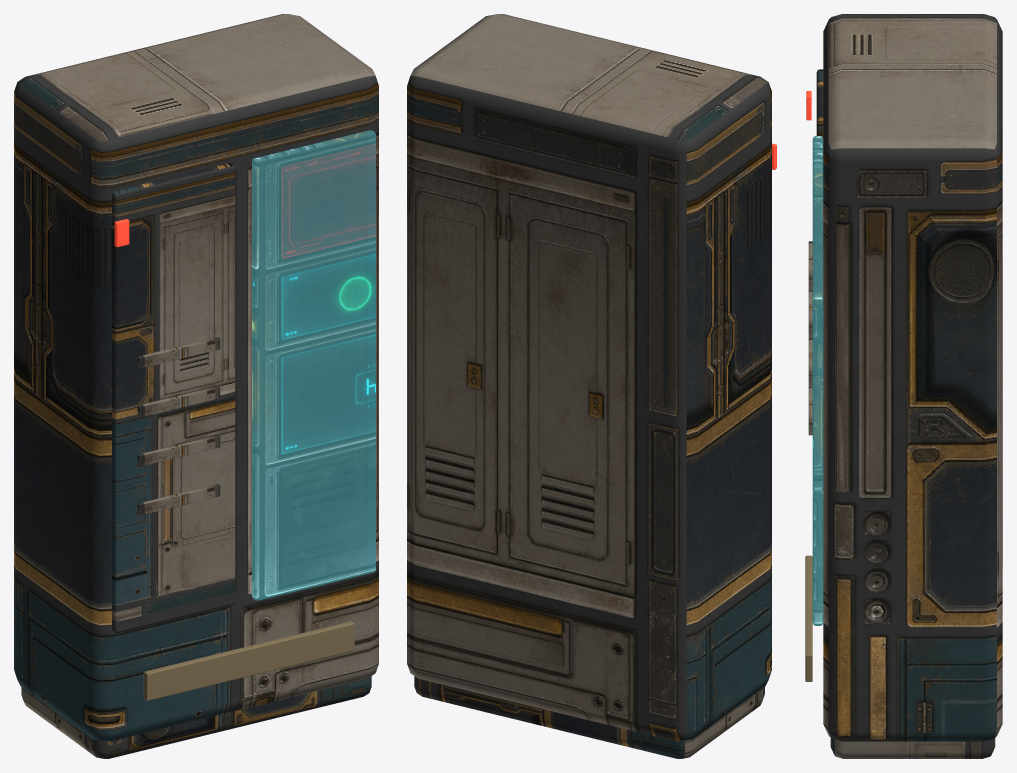
The model's file is hp_room_carekeeper_service_closet.glb.
The picture shows the model from 3 angles, left to right: view 1: azimuth 30°, elevation 25°; view 2: azimuth 150°, elevation 25°; view 3: azimuth 270°, elevation 25°; orthographic projection.
Parts seen in each view (by area): view 1: tall_service_case, right_exposed_service_bay_image2_screen, left_smoked_door, bottom_hazard_but_muted_gold_bar, heavy_shadow_plinth, closet_vent_slit_0, closet_vent_slit_1, closet_vent_slit_2, closet_vent_slit_3; view 2: tall_service_case, heavy_shadow_plinth; view 3: tall_service_case, right_exposed_service_bay_image2_screen, heavy_shadow_plinth, bottom_hazard_but_muted_gold_bar, left_smoked_door.
Part boxes in pixels (x1=…): tall_service_case: x1=14, y1=14, x2=378, y2=741; right_exposed_service_bay_image2_screen: x1=252, y1=130, x2=375, y2=600; left_smoked_door: x1=112, y1=163, x2=235, y2=632; bottom_hazard_but_muted_gold_bar: x1=143, y1=621, x2=354, y2=700; heavy_shadow_plinth: x1=21, y1=676, x2=371, y2=758; closet_vent_slit_0: x1=137, y1=484, x2=220, y2=515; closet_vent_slit_1: x1=137, y1=435, x2=220, y2=466; closet_vent_slit_2: x1=137, y1=386, x2=220, y2=417; closet_vent_slit_3: x1=137, y1=337, x2=220, y2=368; tall_service_case: x1=407, y1=14, x2=771, y2=741; heavy_shadow_plinth: x1=414, y1=676, x2=764, y2=758; tall_service_case: x1=823, y1=14, x2=1002, y2=741; right_exposed_service_bay_image2_screen: x1=812, y1=136, x2=823, y2=625; heavy_shadow_plinth: x1=830, y1=738, x2=995, y2=758; bottom_hazard_but_muted_gold_bar: x1=805, y1=555, x2=812, y2=681; left_smoked_door: x1=816, y1=69, x2=823, y2=138.
Bounding box in the file's own units: 1.2 × 2.5 × 0.7183.
Materials: 6 (3 with a texture image).
